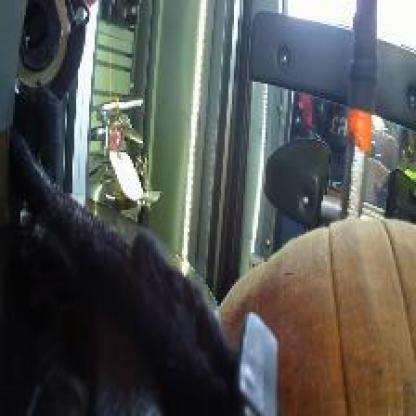other: (104, 128, 161, 204), (345, 107, 383, 147)
